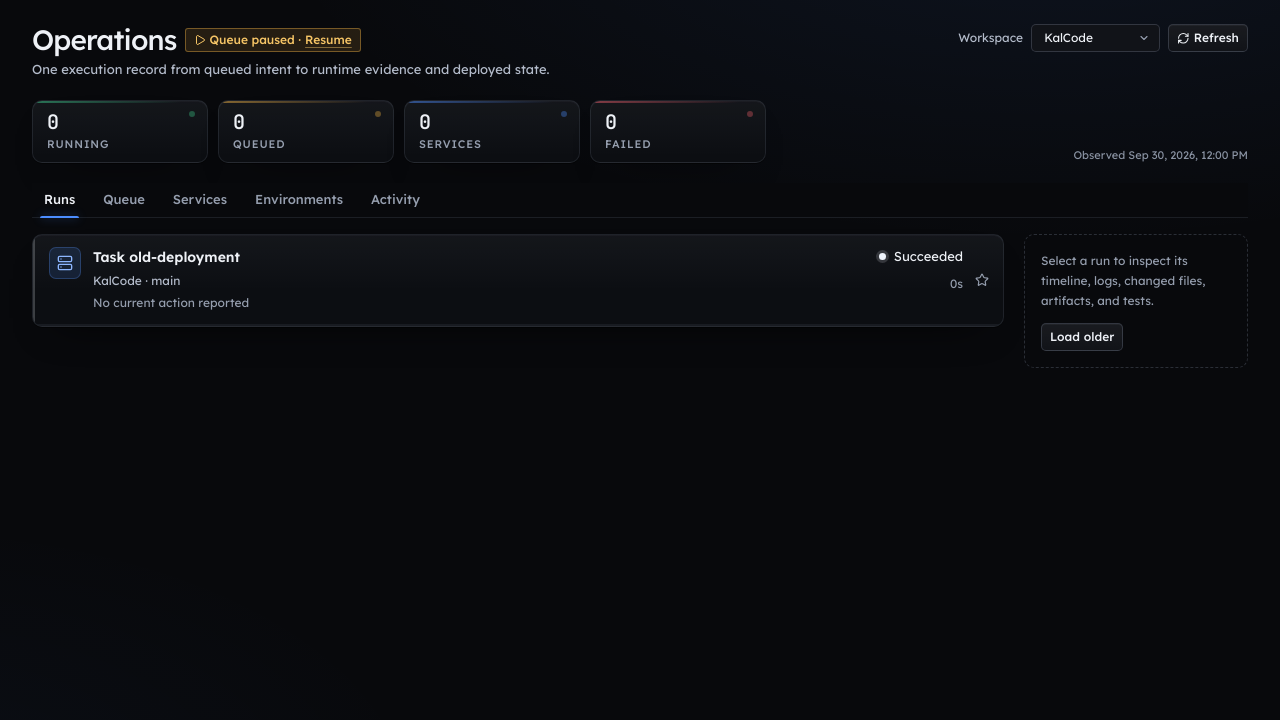
OperationsPage › retains superseded deployment evidence without presenting it as the current environment
Click the button "Task old-deployment".
click(65, 263)  # box [33, 235, 1003, 325]
(page scrolled)
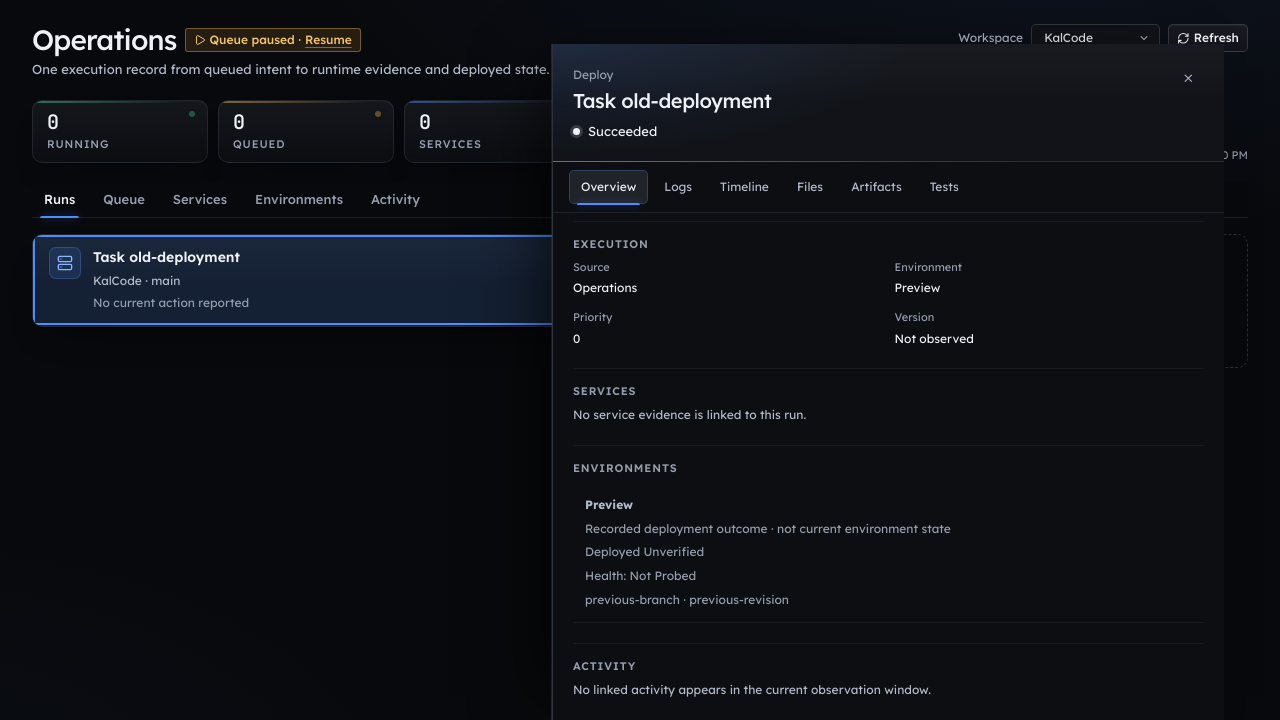
Expected: the text "Recorded deployment outcome · not current environment state" is shown, [585, 519, 951, 538]
Expected: the text "previous-branch · previous-revision" is shown, [585, 592, 789, 607]
